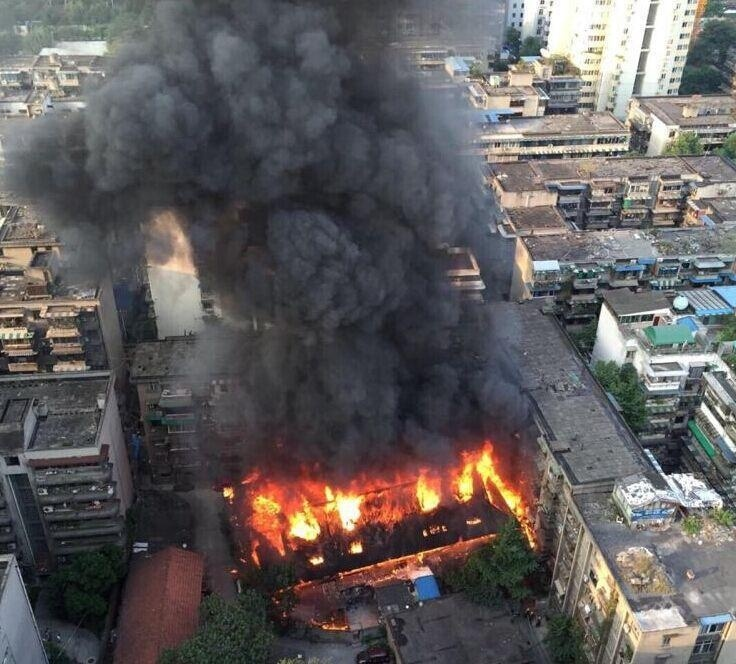fire: (230, 436, 534, 558)
